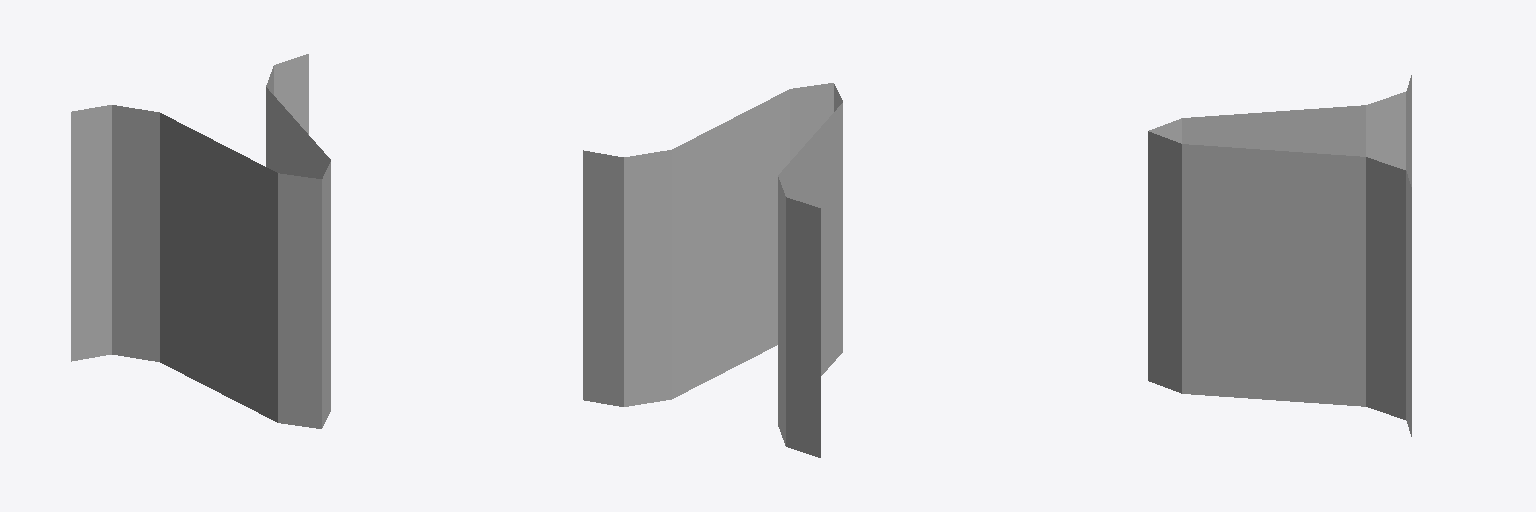
Rendered from COCO.obj.
The picture shows the model from 3 angles: view 1: azimuth 30°, elevation 25°; view 2: azimuth 150°, elevation 25°; view 3: azimuth 270°, elevation 25°; orthographic projection.
Parts seen in each view (by area): view 1: Plane.012_Plane.019; view 2: Plane.012_Plane.019; view 3: Plane.012_Plane.019.
Part boxes in pixels (bbox=[...]): Plane.012_Plane.019: bbox=[71, 54, 330, 428]; Plane.012_Plane.019: bbox=[583, 83, 842, 457]; Plane.012_Plane.019: bbox=[1148, 75, 1411, 436].
Bounding box in the file's own units: 1 × 1 × 0.9583.